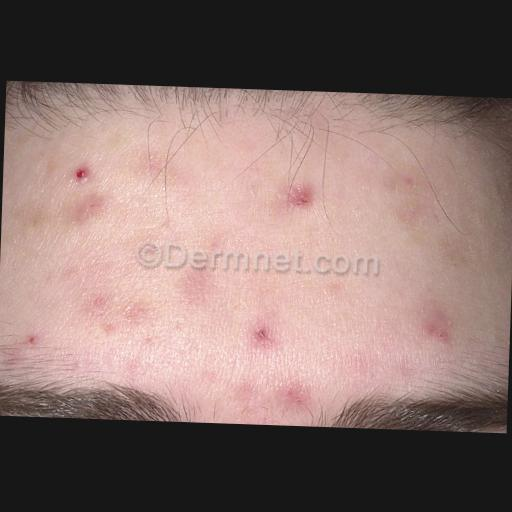Skin_Lesion: (283, 180, 315, 214), (420, 316, 452, 348), (280, 384, 312, 414), (178, 277, 208, 301), (250, 323, 278, 348), (132, 299, 156, 321), (74, 198, 106, 214), (238, 384, 260, 406), (21, 330, 43, 348), (72, 164, 92, 182), (88, 296, 108, 310), (101, 322, 118, 336), (405, 174, 418, 190), (136, 162, 150, 176)
